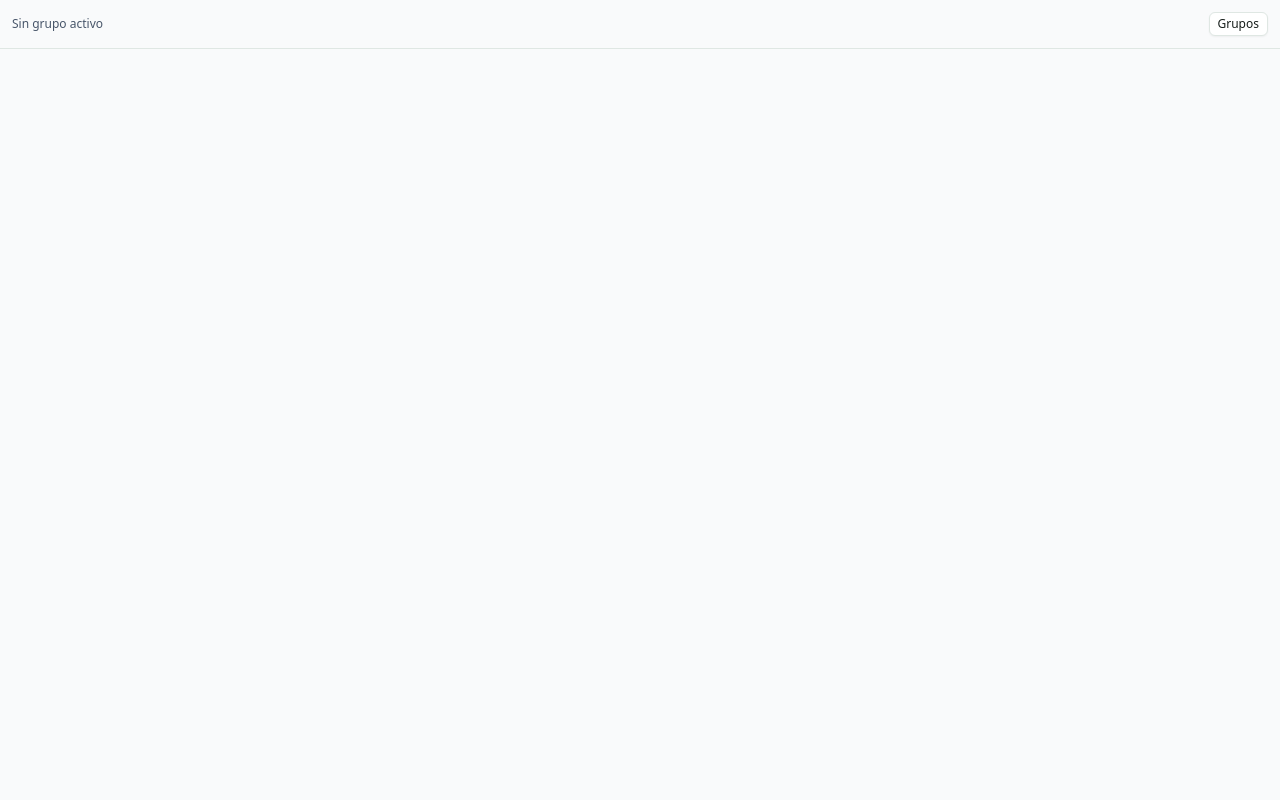
Test: GroupsPanel › muestra un mensaje si no hay grupos
Click the button "Grupos" at (1238, 24), box 1208,12 -> 1268,36
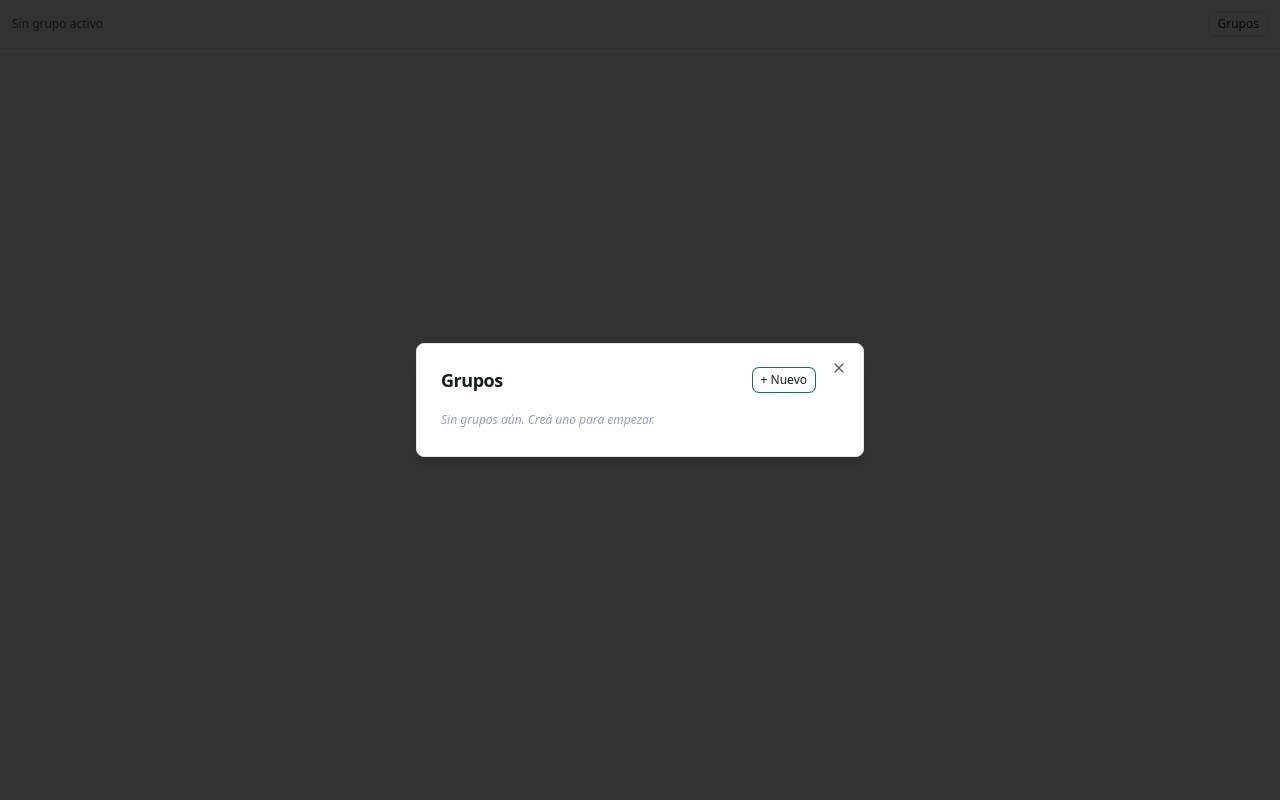
Expected: the text "Sin grupos aún. Creá uno para empezar." is shown, 441,411 -> 655,428
